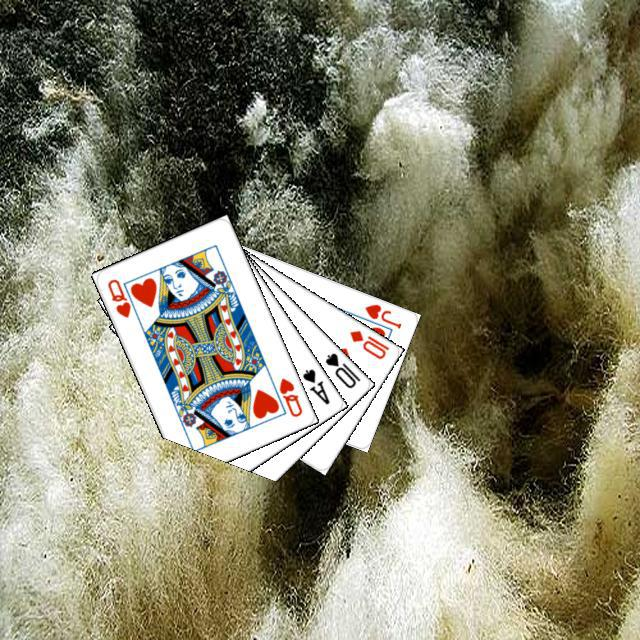10d: (345, 325, 391, 361)
10s: (320, 348, 362, 390)
As: (297, 364, 332, 406)
Jh: (360, 299, 403, 330)
Qh: (102, 274, 141, 320), (274, 373, 304, 419)
